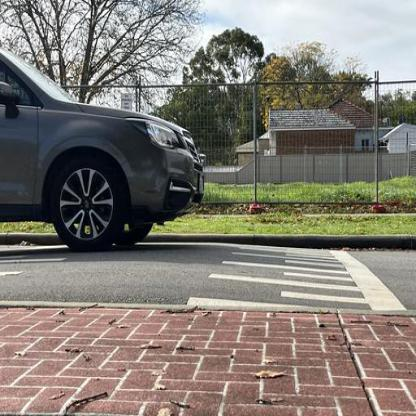Tire: (50, 156, 126, 252)
